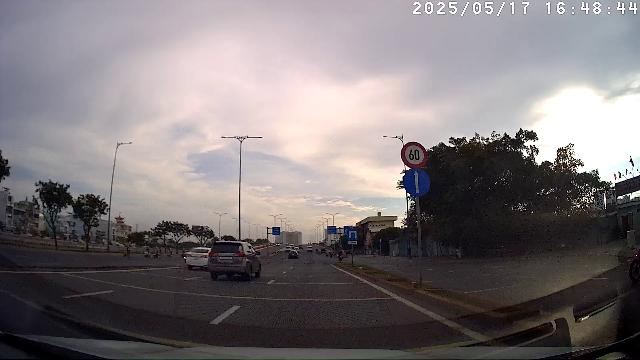127-toc-do-toi-da-60: (401, 141, 428, 168)
301a-cac-xe-chi-duoc-di-thang: (403, 168, 430, 197)
